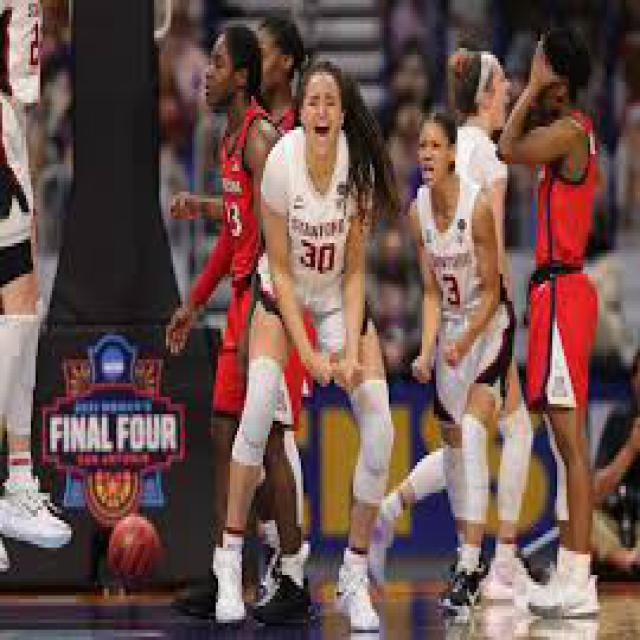basketball: (106, 516, 158, 586)
